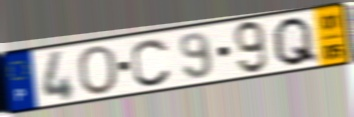4: (41, 49, 77, 103)
9: (232, 20, 270, 76), (177, 30, 215, 81)
C: (129, 37, 173, 88)
O: (76, 43, 120, 97)
Q: (270, 14, 321, 69)
